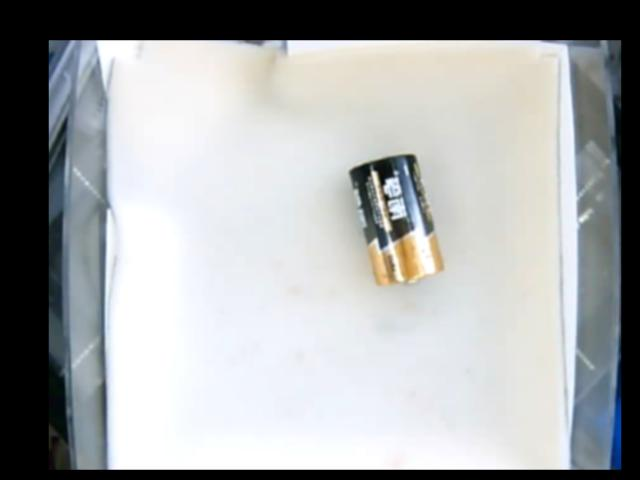Battery: (347, 153, 445, 287)
